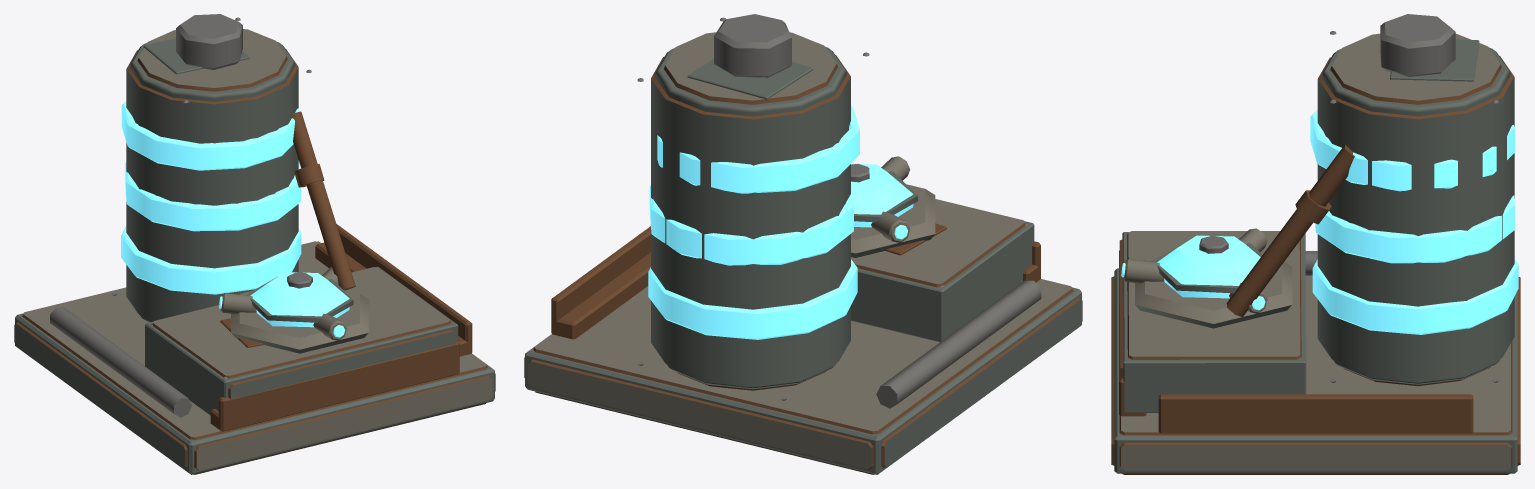
The model's file is R4X_SlowTrapDeployer.fbx.
The picture shows the model from 3 angles, left to right: view 1: azimuth 30°, elevation 25°; view 2: azimuth 150°, elevation 25°; view 3: azimuth 270°, elevation 25°; orthographic projection. The views are drawn at different scales.
Parts seen in each view (by area): view 1: R4X_SlowTrapDeployer_Body, R4X_SlowTrapDeployer_Payload; view 2: R4X_SlowTrapDeployer_Body, R4X_SlowTrapDeployer_Payload; view 3: R4X_SlowTrapDeployer_Body, R4X_SlowTrapDeployer_Payload.
Part boxes in pixels (x1,y1,x2,y2): R4X_SlowTrapDeployer_Body: (14,14,495,474); R4X_SlowTrapDeployer_Payload: (219,267,368,353); R4X_SlowTrapDeployer_Body: (524,14,1082,474); R4X_SlowTrapDeployer_Payload: (851,156,935,257); R4X_SlowTrapDeployer_Body: (1111,14,1520,474); R4X_SlowTrapDeployer_Payload: (1121,228,1292,328).
Bounding box in the file's own units: 0.52 × 0.51 × 0.52.
